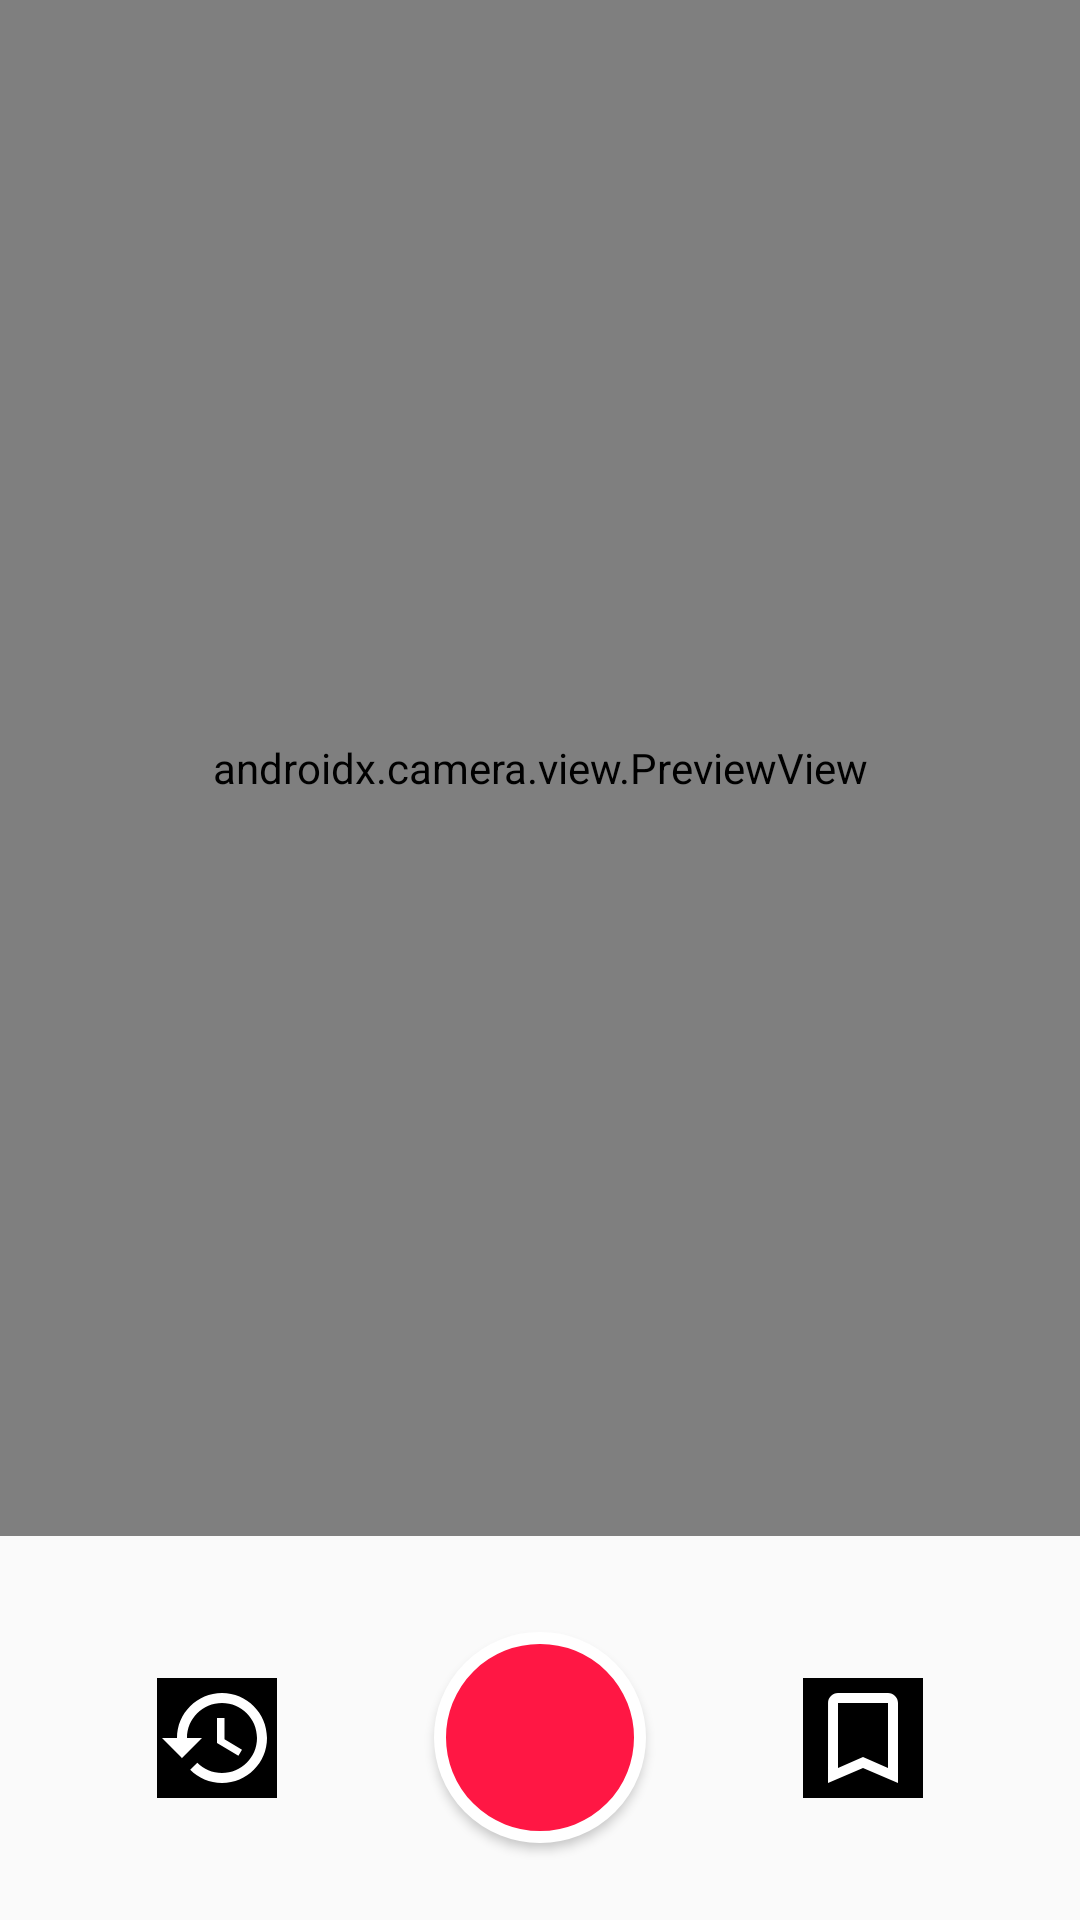

Icon click points for this 1080w x 1920h phone screenshot, format (x,y):
history: (217,1738)
saved words: (863,1738)
